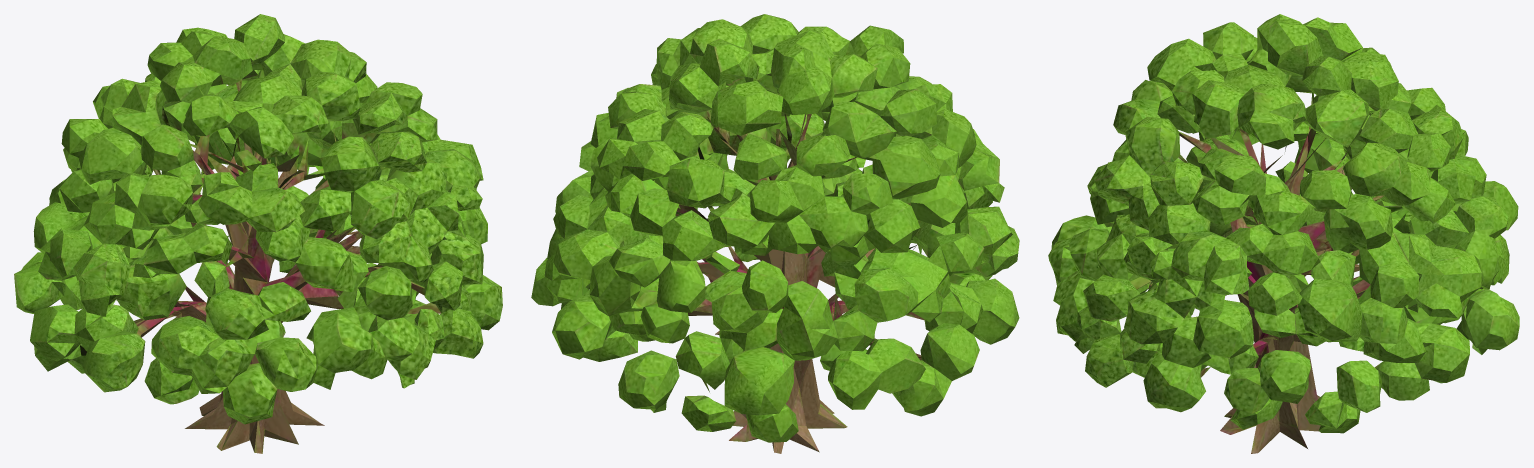
File: arbre.glb
3 views of the same model, side by side, from view 1: azimuth 30°, elevation 25°; view 2: azimuth 150°, elevation 25°; view 3: azimuth 270°, elevation 25° (orthographic). The views are drawn at different scales.
Size of the model in its own units: 1.87 by 1.73 by 1.89.
Materials: 1 (1 with a texture image).
